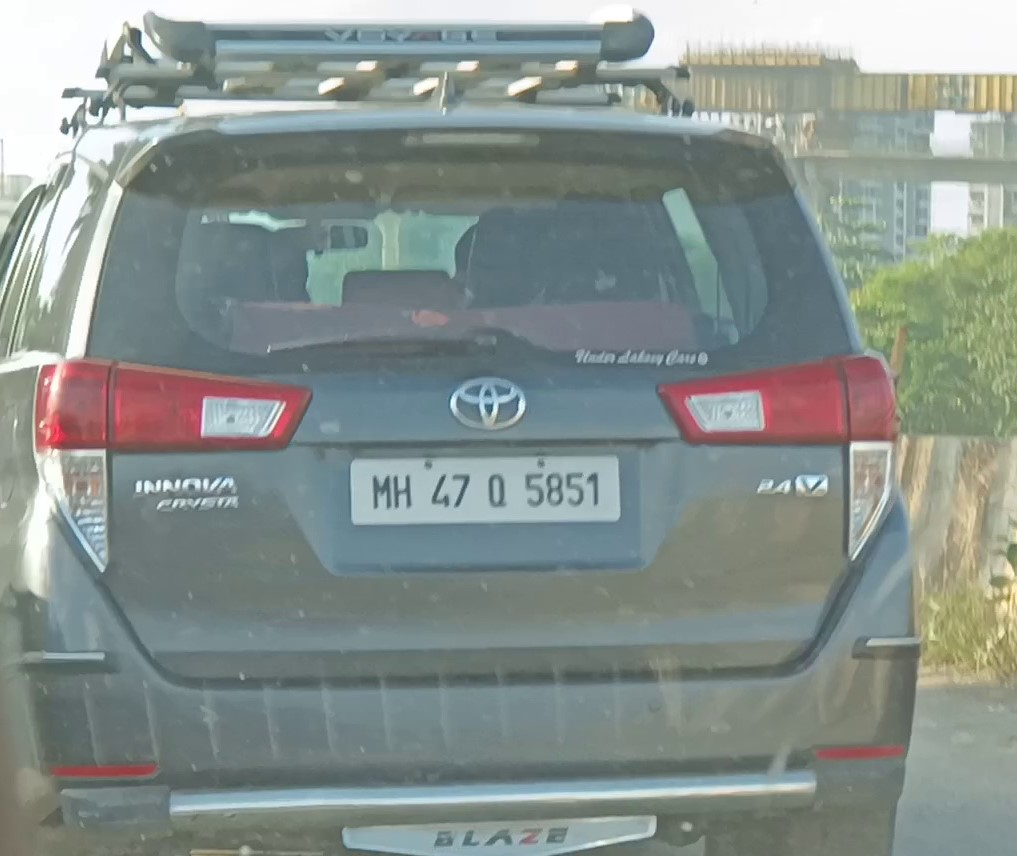MH4705851: (347, 456, 624, 525)
